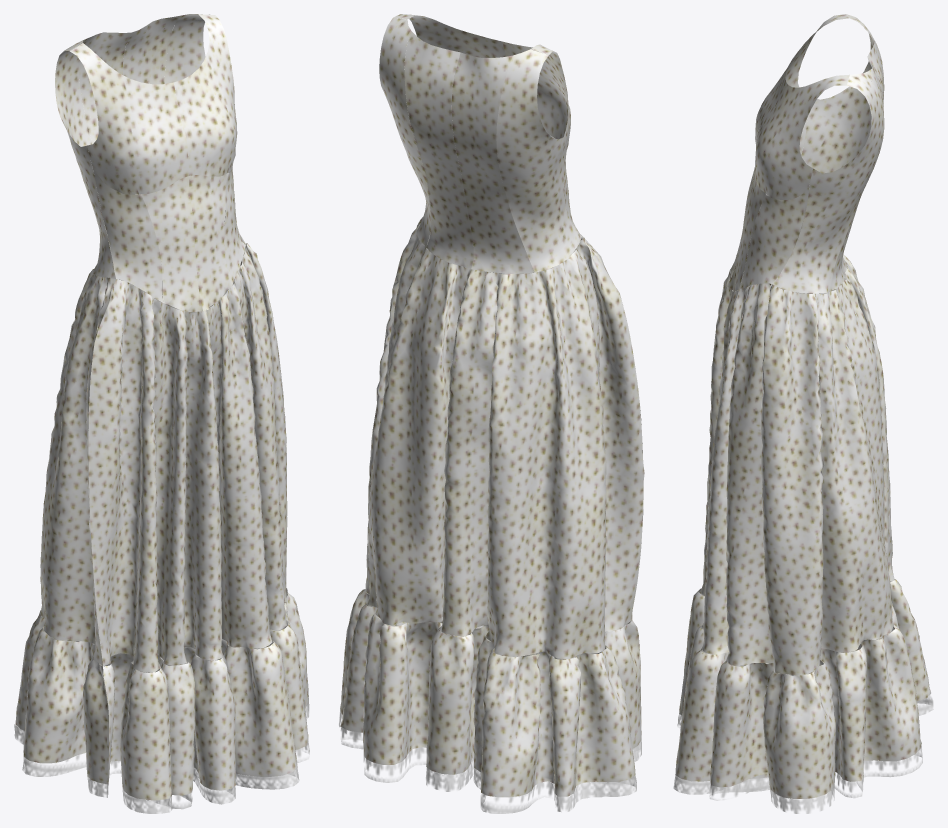
The picture shows the model from 3 angles, left to right: view 1: azimuth 30°, elevation 25°; view 2: azimuth 150°, elevation 25°; view 3: azimuth 270°, elevation 25°; orthographic projection. The views are drawn at different scales.
Visible parts, largest first — view 1: CB; view 2: CB; view 3: CB.
Part boxes in pixels (<box>): CB: <box>14,14,309,813</box>; CB: <box>339,14,644,813</box>; CB: <box>673,14,933,813</box>.
Size of what is drawn, in the model's own units: 0.5556 by 1.36 by 0.4481.
Materials: 2 (2 with a texture image).
